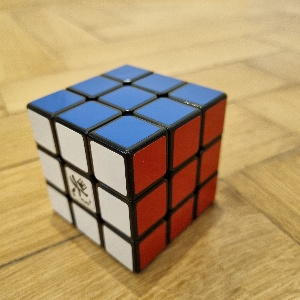cube: (26, 64, 228, 275)
